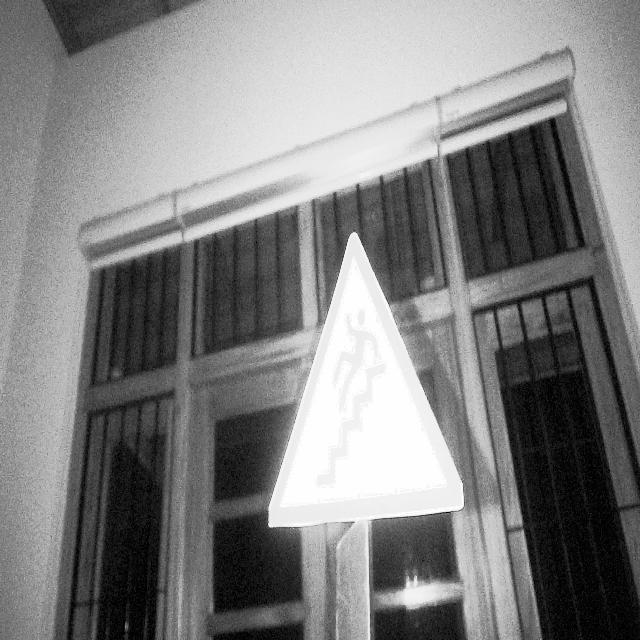Sign: (266, 226, 464, 531)
